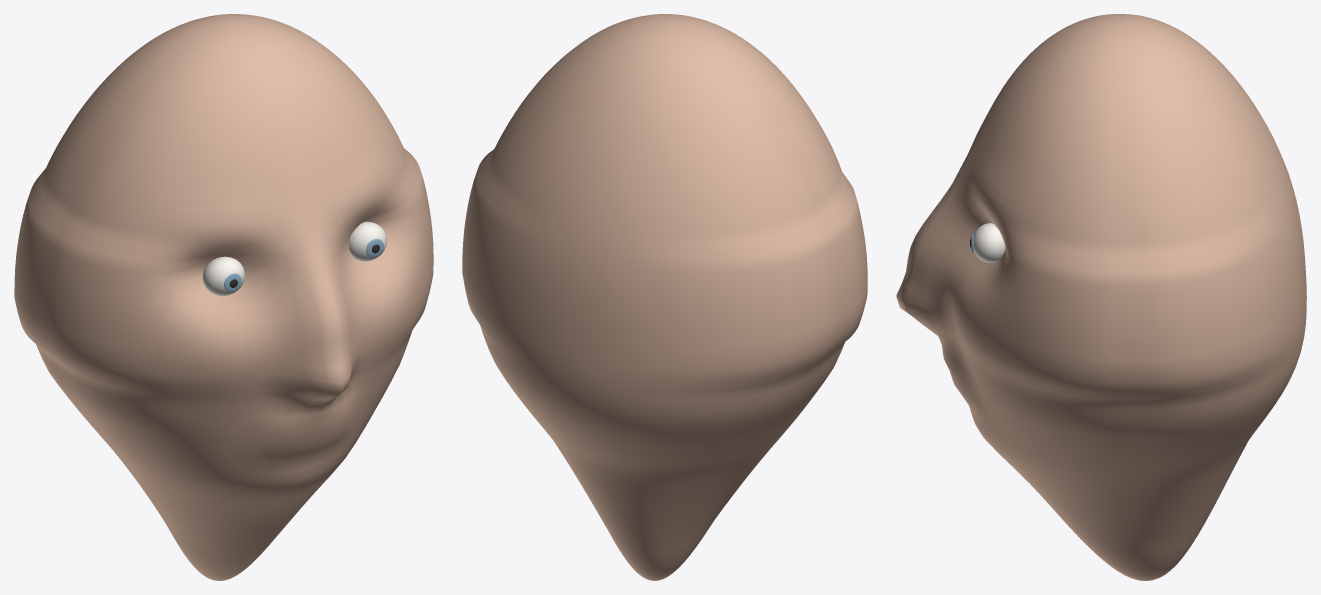
The model's file is brooke-head.glb.
The picture shows the model from 3 angles, left to right: view 1: azimuth 30°, elevation 25°; view 2: azimuth 150°, elevation 25°; view 3: azimuth 270°, elevation 25°; orthographic projection. The views are drawn at different scales.
Parts seen in each view (by area): view 1: Brooke_Head_Skin, Left_Eyeball, Right_Eyeball; view 2: Brooke_Head_Skin; view 3: Brooke_Head_Skin, Right_Eyeball.
Boxes of the visible parts, x1=… form: Brooke_Head_Skin: x1=14, y1=14, x2=433, y2=580; Left_Eyeball: x1=202, y1=256, x2=244, y2=295; Right_Eyeball: x1=349, y1=221, x2=386, y2=261; Brooke_Head_Skin: x1=462, y1=14, x2=867, y2=580; Brooke_Head_Skin: x1=896, y1=14, x2=1306, y2=580; Right_Eyeball: x1=973, y1=223, x2=1005, y2=262.
Bounding box in the file's own units: 1.46 × 2.12 × 1.43.
